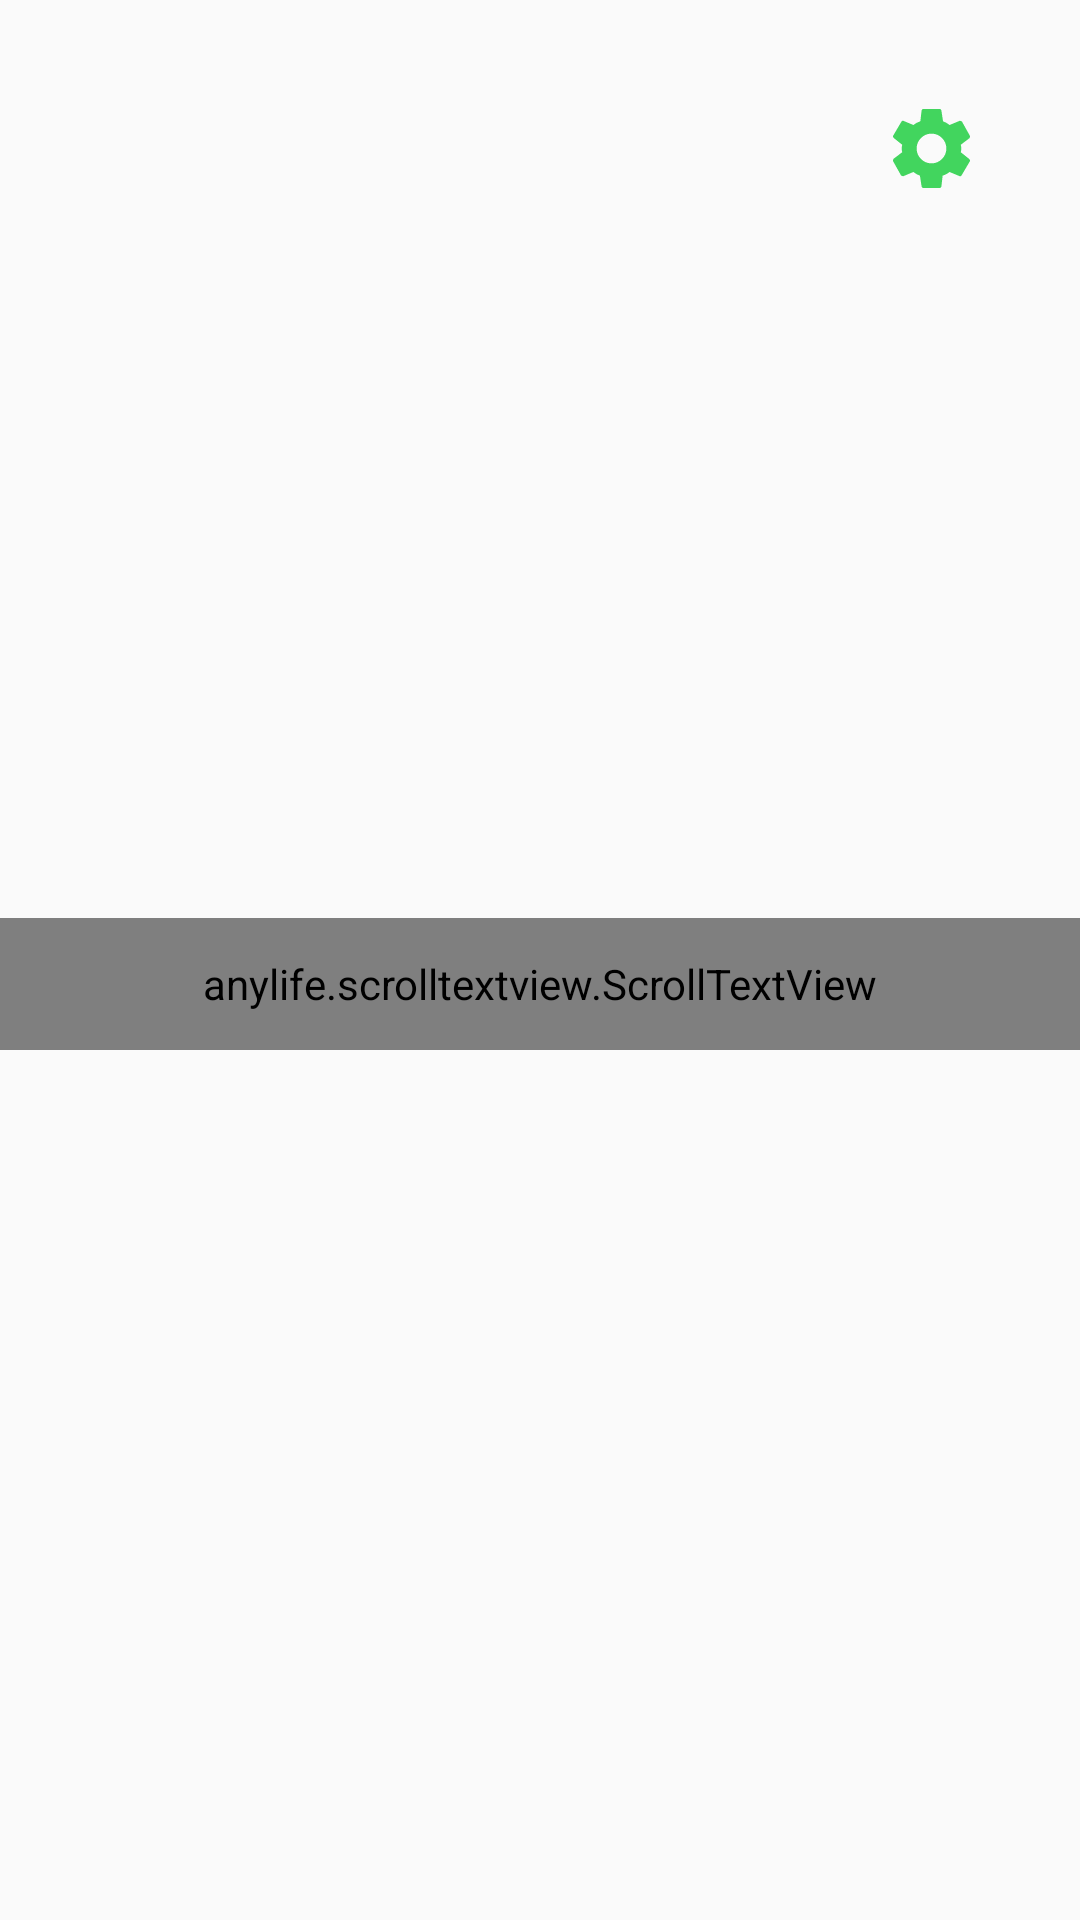

Screen size 1080*1920. Icon name, then its center in pixels as (x=x, y=y):
setting: (x=931, y=148)
